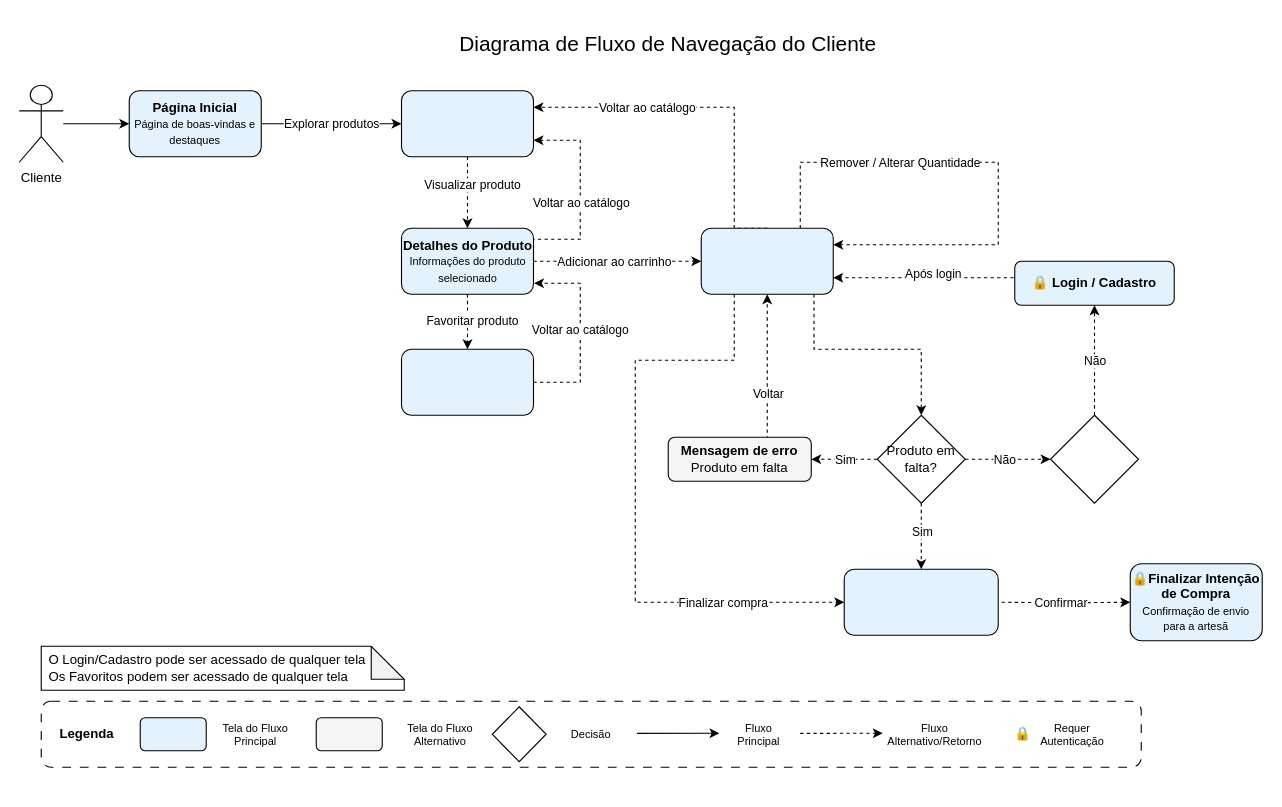
Image size: 1282x807. Some labels were removed from this diagram. The shapes that lost their labels are listed below. From the top down, each one's centre as x and y in pixels, then its label:
At [467,123]: "Catálogo de Produtos Lista de produtos disponíveis para compra".
At [766,260]: "Carrinho de Compras Itens selecionados e preço total".
At [467,381]: "🔒 Favoritos Exibe produtos favoritos".
At [1093,458]: "Cliente logado?".
At [920,601]: "Pedido de Confirmação Resumo dos itens e preço".
